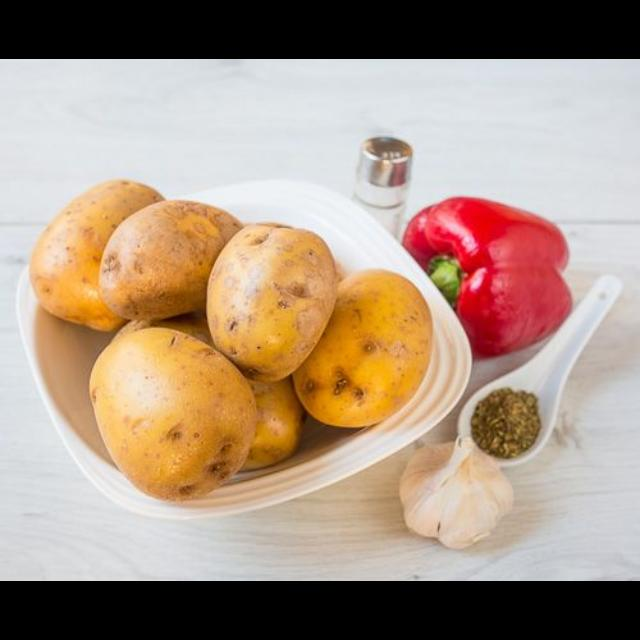Potato: (82, 292, 248, 504), (294, 256, 436, 434), (211, 208, 335, 380), (34, 159, 156, 329), (98, 200, 246, 308)
